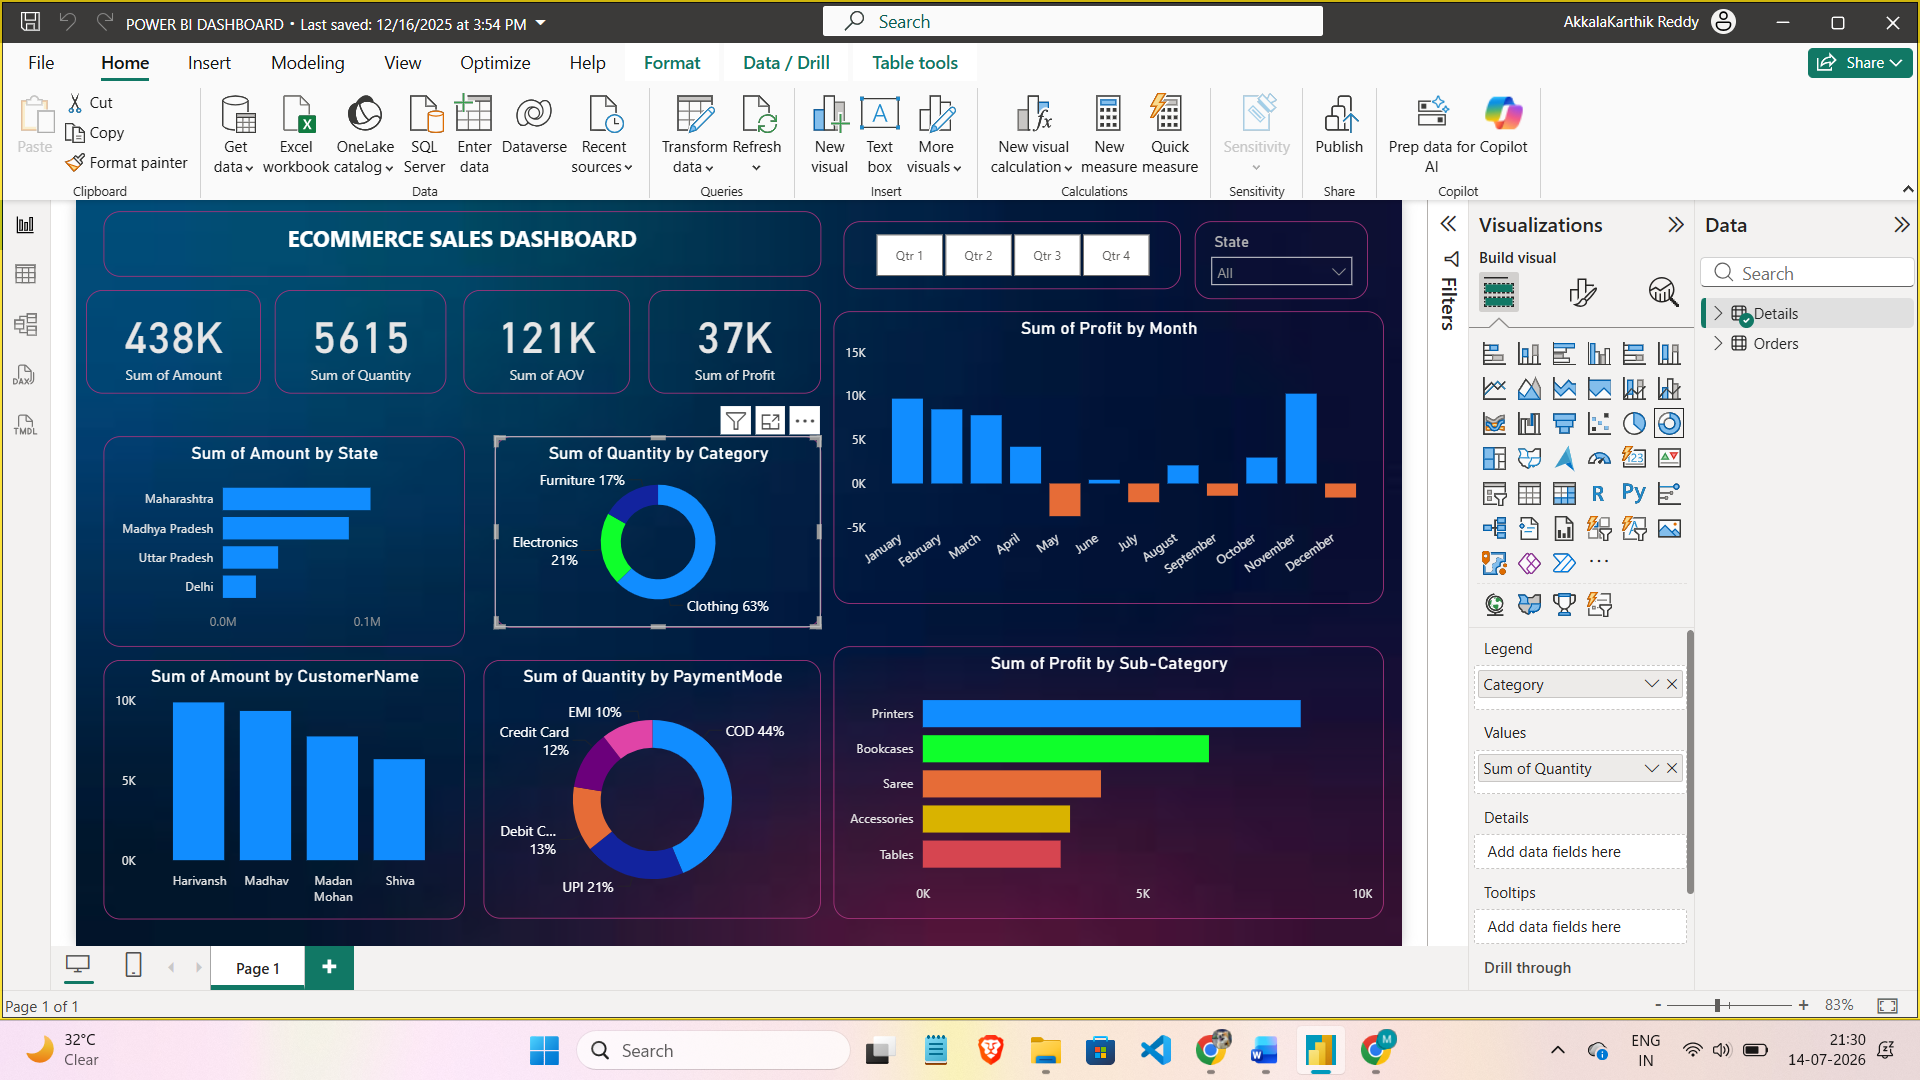

This screenshot's page, from the dashboard's own definition file:
{"tool":"powerbi","page":{"name":"Page 1","canvas":[1280,720],"ordinal":0},"visuals":[{"type":"textbox","box":[26.1,11,693,63.1],"z":0},{"type":"columnChart","fields":{"Category":["Orders.Order Date.Variation.Date Hierarchy.Month"],"Y":["Sum(Details.Profit)"]},"box":[731.1,107.4,530.8,282.3],"z":1000},{"type":"barChart","fields":{"Category":["Details.Sub-Category"],"Y":["Sum(Details.Profit)"]},"box":[731.1,430.7,530.8,263],"z":2000},{"type":"donutChart","fields":{"Category":["Details.Category"],"Y":["Sum(Details.Quantity)"]},"box":[404.2,228,314.9,184.6],"z":3000},{"type":"donutChart","fields":{"Y":["Sum(Details.Quantity)"],"Category":["Details.PaymentMode"]},"box":[393.3,444,325.7,249.7],"z":4000},{"type":"card","fields":{"Values":["Sum(Details.Amount)"]},"box":[9.7,86.9,168.9,100.1],"z":5000},{"type":"card","fields":{"Values":["Sum(Details.Quantity)"]},"box":[191.8,86.9,165.3,100.1],"z":6000},{"type":"card","fields":{"Values":["Sum(Details.Profit)"]},"box":[552.5,86.9,166.5,100.1],"z":7000},{"type":"card","fields":{"Values":["Sum(Details.AOV)"]},"box":[374,86.9,160.5,100.1],"z":8000},{"type":"barChart","fields":{"Category":["Orders.State"],"Y":["Sum(Details.Amount)"]},"box":[26.1,227.8,348.5,203.1],"z":9000},{"type":"columnChart","fields":{"Category":["Orders.CustomerName"],"Y":["Sum(Details.Amount)"]},"box":[26,444,349,250],"z":10000},{"type":"slicer","fields":{"Values":["Orders.Order Date.Variation.Date Hierarchy.Quarter"]},"box":[741,20.6,325.2,65.9],"z":11000},{"type":"slicer","fields":{"Values":["Orders.State"]},"box":[1079.9,20.6,167.4,75.5],"z":12000}]}

Visuals, with their boxes on the page's 1280x720 design canvas (x1, y1, x2, y2). These are canvas units, not pixel positions in the 1920x1080 screenshot, which may show the page scaled, cropped or inside an application window:
textbox: x1=26 y1=11 x2=719 y2=74
columnChart - Orders.Order Date.Variation.Date Hierarchy.Month x Sum(Details.Profit): x1=731 y1=107 x2=1262 y2=390
barChart - Details.Sub-Category x Sum(Details.Profit): x1=731 y1=431 x2=1262 y2=694
donutChart - Details.Category x Sum(Details.Quantity): x1=404 y1=228 x2=719 y2=413
donutChart - Sum(Details.Quantity) x Details.PaymentMode: x1=393 y1=444 x2=719 y2=694
card - Sum(Details.Amount): x1=10 y1=87 x2=179 y2=187
card - Sum(Details.Quantity): x1=192 y1=87 x2=357 y2=187
card - Sum(Details.Profit): x1=552 y1=87 x2=719 y2=187
card - Sum(Details.AOV): x1=374 y1=87 x2=534 y2=187
barChart - Orders.State x Sum(Details.Amount): x1=26 y1=228 x2=375 y2=431
columnChart - Orders.CustomerName x Sum(Details.Amount): x1=26 y1=444 x2=375 y2=694
slicer - Orders.Order Date.Variation.Date Hierarchy.Quarter: x1=741 y1=21 x2=1066 y2=86
slicer - Orders.State: x1=1080 y1=21 x2=1247 y2=96
